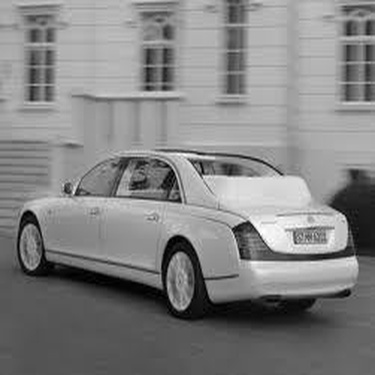car: (1, 141, 363, 325)
